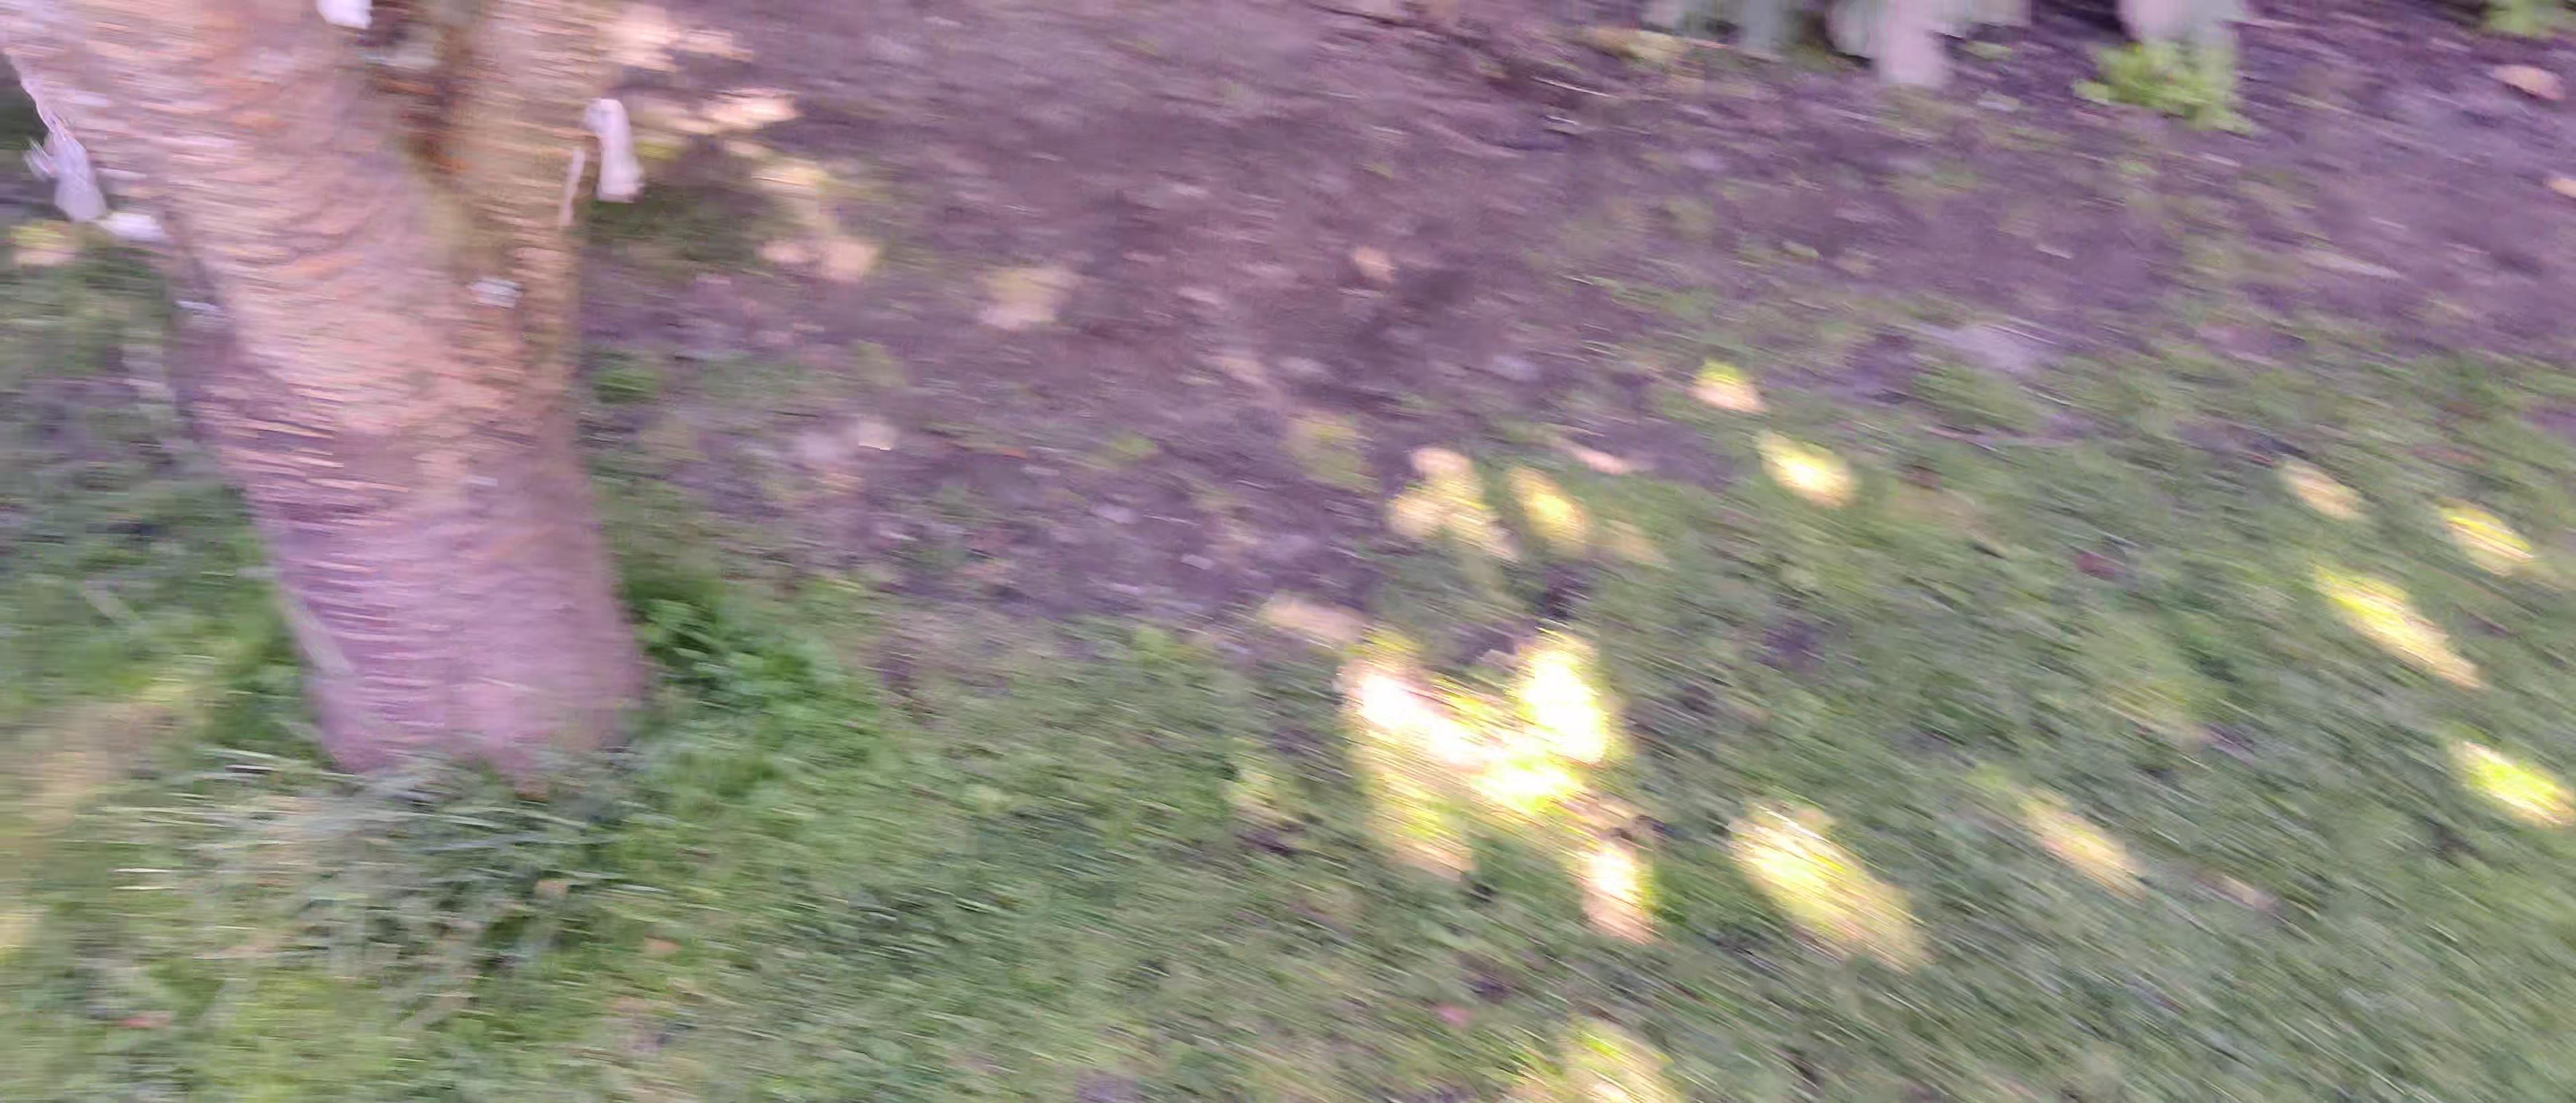Dog: (307, 0, 662, 242)
